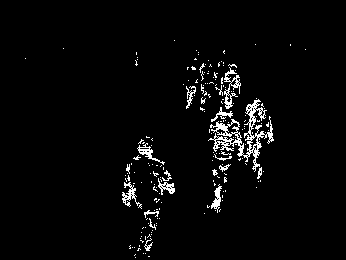person: (120, 138, 175, 256), (211, 108, 244, 212), (243, 99, 274, 183), (220, 62, 241, 110), (201, 60, 214, 111), (184, 64, 197, 108)
